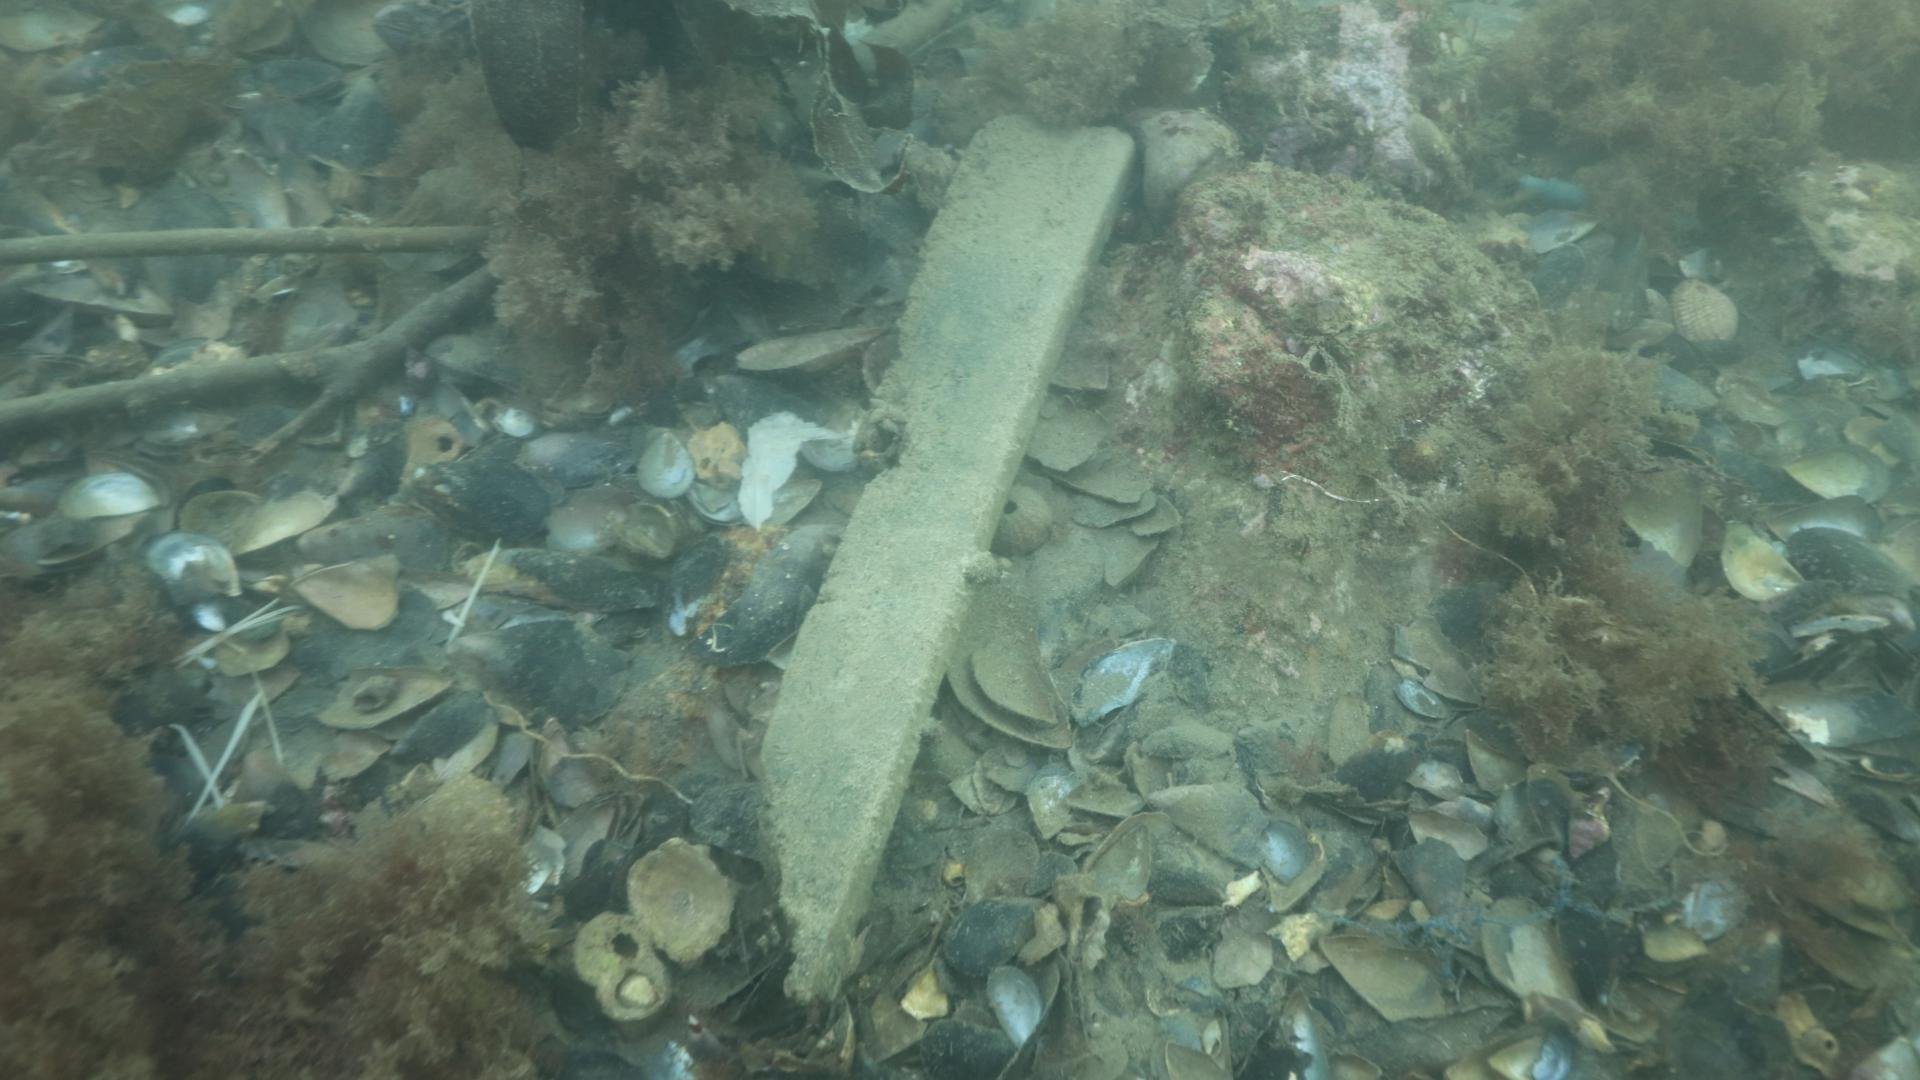wood: (753, 109, 1135, 1001)
